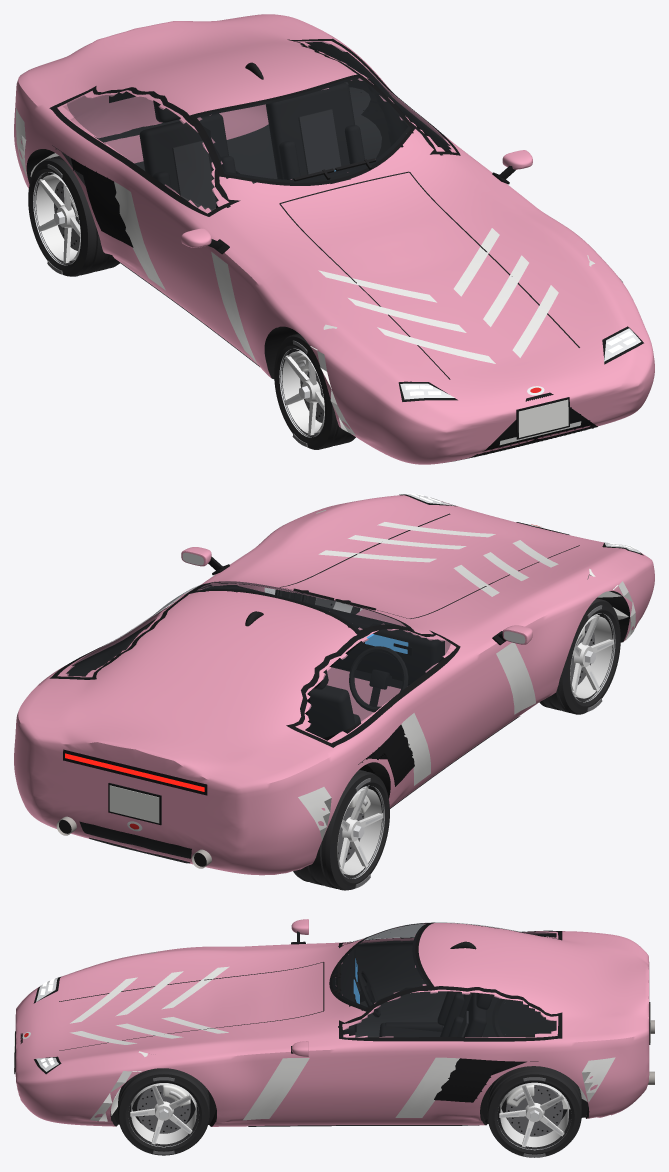
The model's file is sakura.glb.
The picture shows the model from 3 angles, top to bottom: view 1: azimuth 30°, elevation 25°; view 2: azimuth 150°, elevation 25°; view 3: azimuth 270°, elevation 25°; orthographic projection. The views are drawn at different scales.
Visible parts, largest first — view 1: Body, Wheel_RR, Wheel_FR; view 2: Body, Wheel_RR, Wheel_FR, Wheel_FL; view 3: Body, Wheel_RL, Wheel_FL.
Part boxes in pixels (x1,y1,x2,y2): Body: [14, 14, 654, 464]; Wheel_RR: [28, 156, 119, 276]; Wheel_FR: [274, 333, 355, 449]; Body: [14, 493, 654, 875]; Wheel_RR: [293, 769, 389, 890]; Wheel_FR: [539, 598, 620, 714]; Wheel_FL: [275, 589, 360, 614]; Body: [14, 919, 654, 1126]; Wheel_RL: [487, 1066, 581, 1157]; Wheel_FL: [118, 1068, 209, 1155].
Size of the model in its own units: 2.31 by 1.31 by 4.75.
